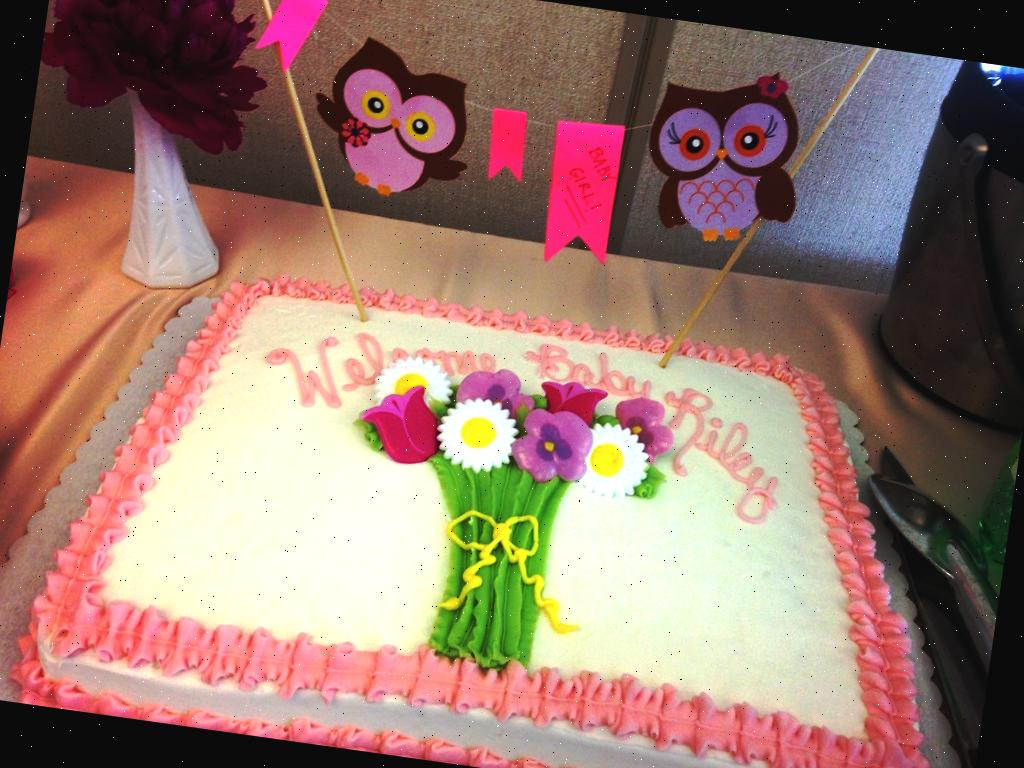Owl: (626, 55, 819, 269), (298, 23, 486, 220)
